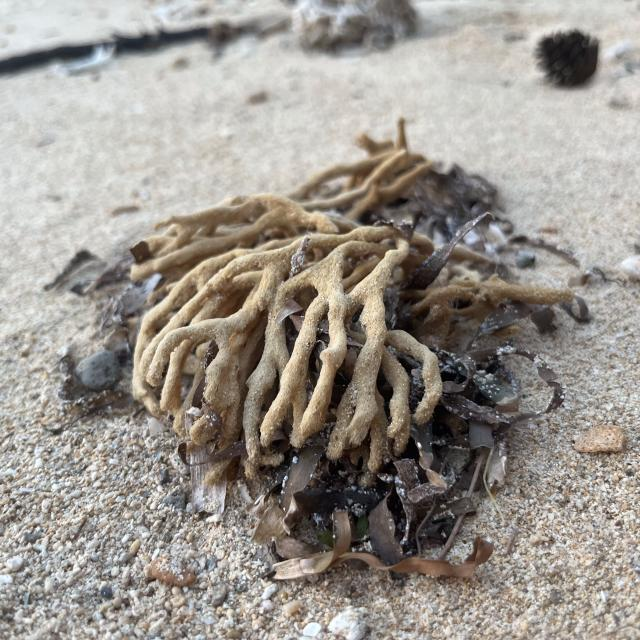coral: (125, 118, 497, 508)
pinecone: (521, 13, 605, 97)
